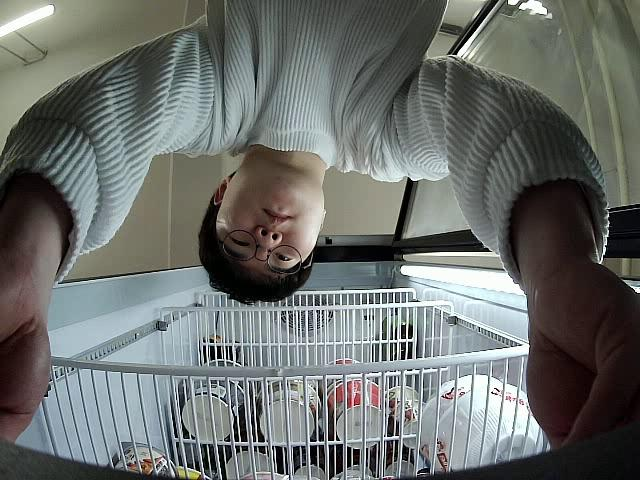00_hand: (523, 266, 640, 450)
